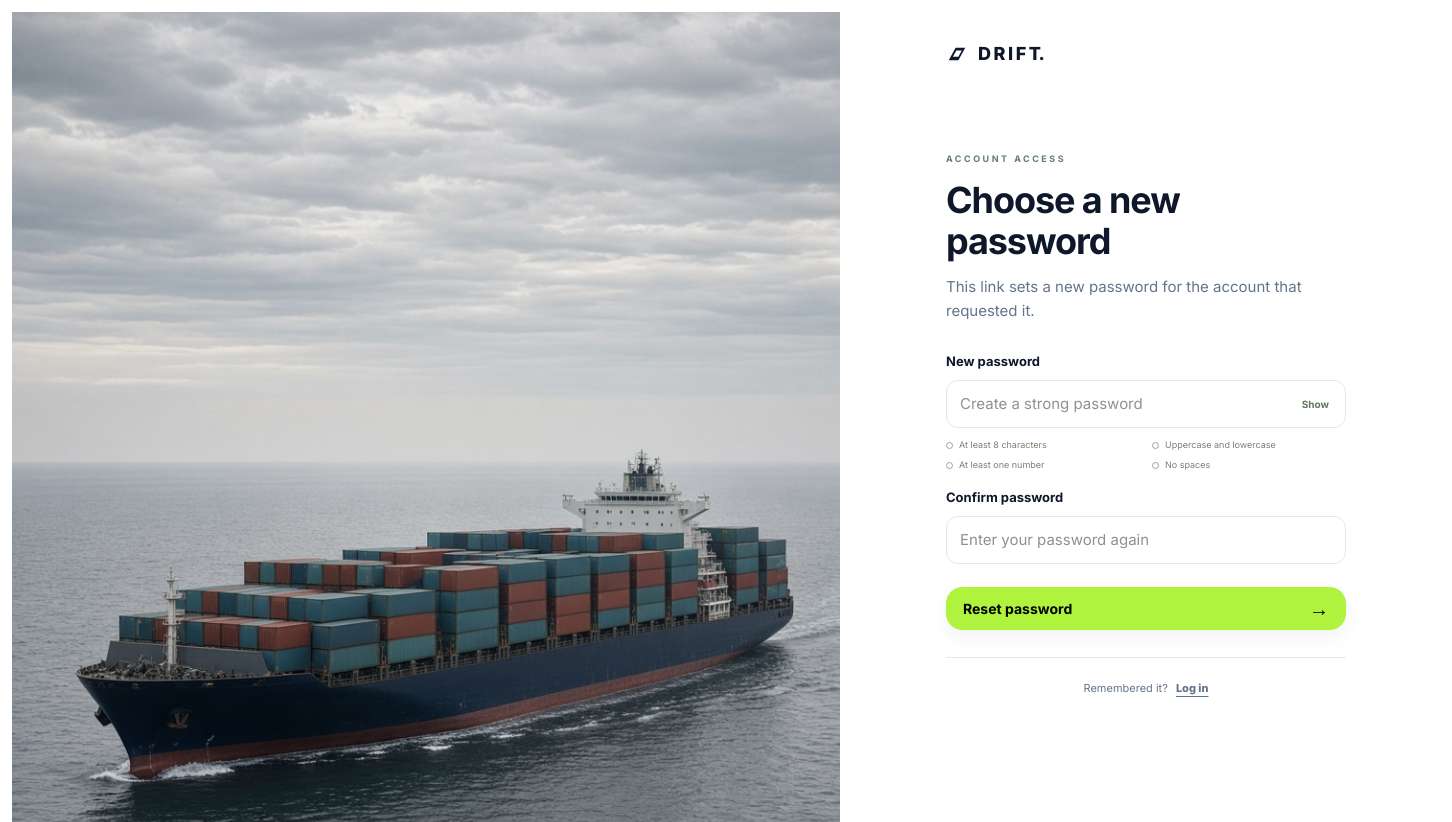
Test case: reset password page › shows an invalid link returned by the API
This screenshot has width=1452, height=822.
Type "Example123" into the password field labelled "New password".
click(1146, 404); type("Example123")  # box left=946, top=380, right=1346, bottom=428
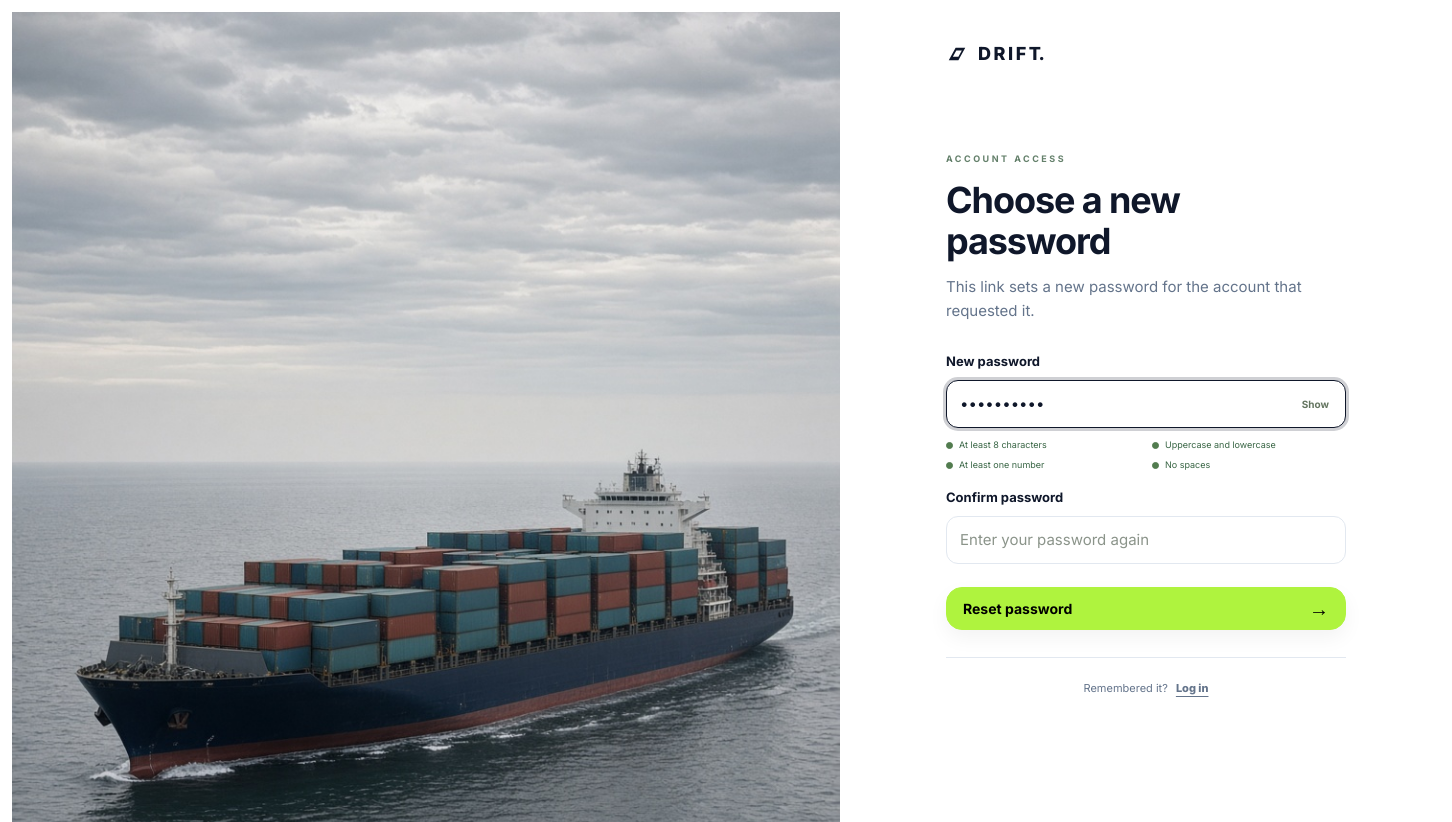
Type "Example123" into the password field labelled "Confirm password".
click(1146, 540); type("Example123")  # box left=946, top=516, right=1346, bottom=564
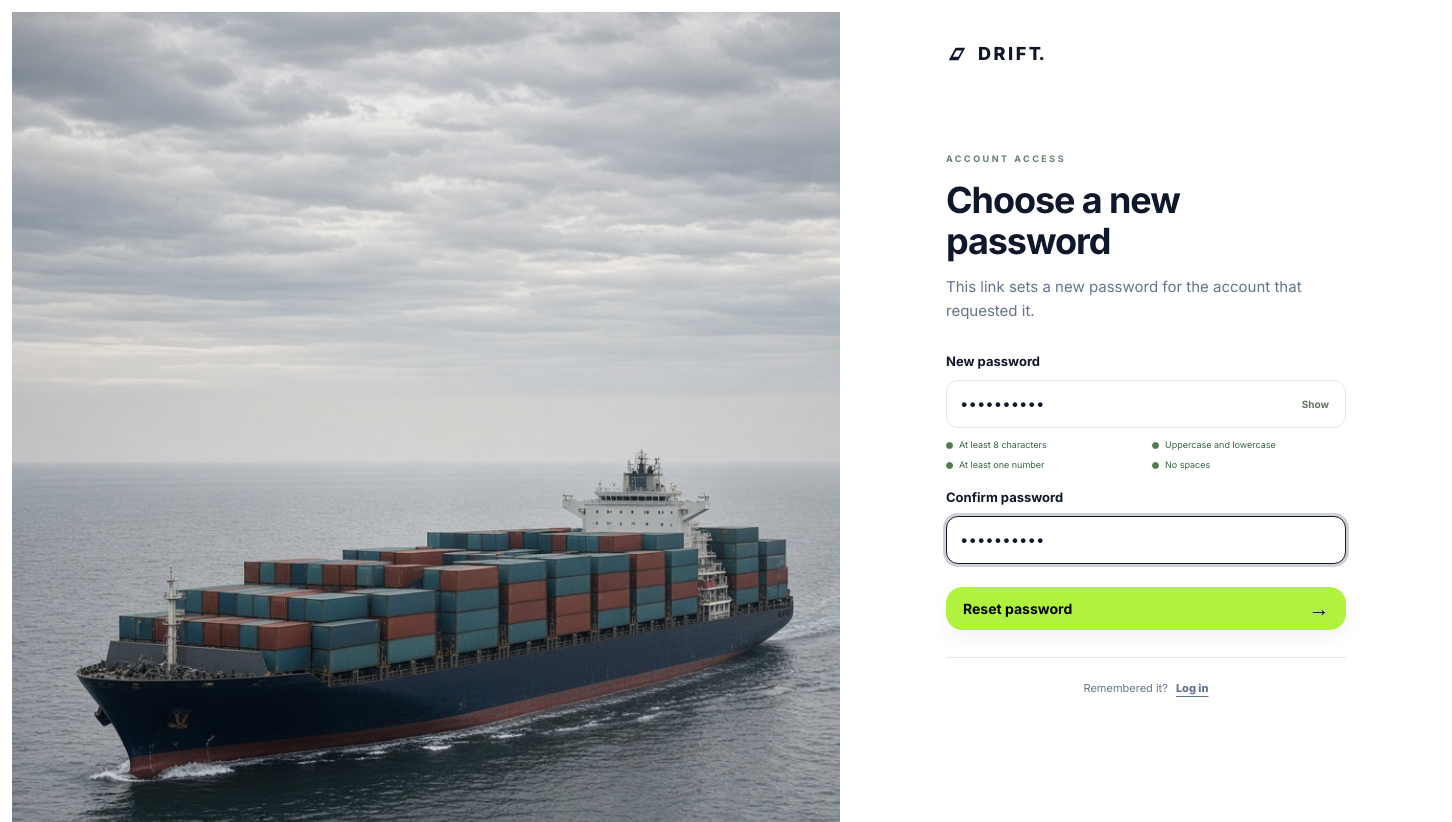
Click the button "Reset password →".
click(1018, 609)  # box left=946, top=587, right=1346, bottom=630
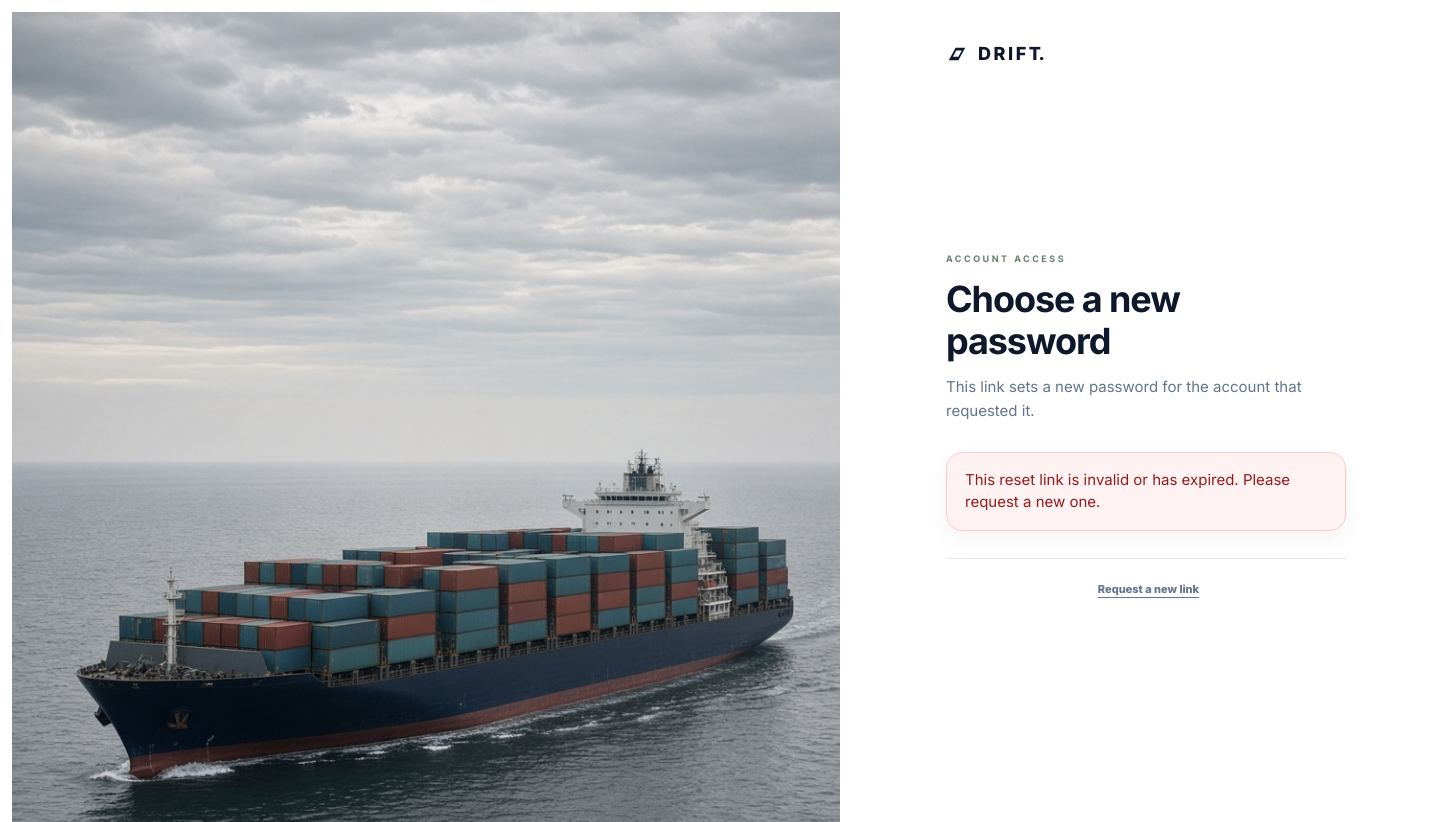
Now the message reads "This reset link is invalid or has expired. Please request a new one.", box left=965, top=470, right=1290, bottom=511
